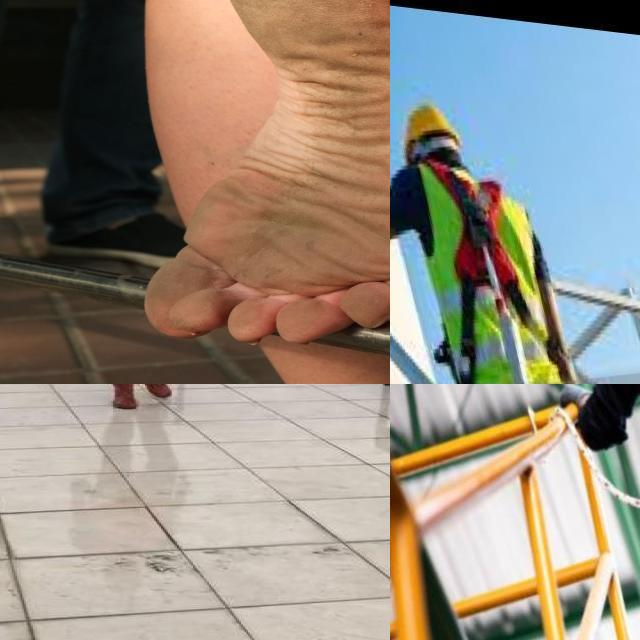Barefoots: (142, 0, 390, 343)
Harness: (419, 159, 540, 384)
boots: (100, 384, 137, 410), (136, 384, 175, 399)
